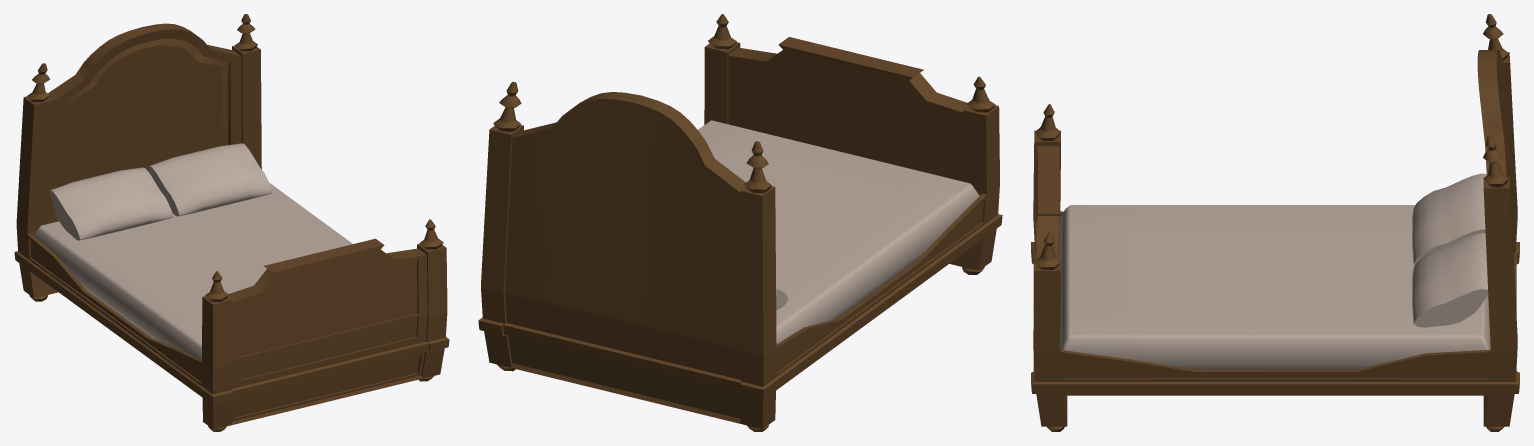
The model's file is OBJ_Bed_02.fbx.
3 views of the same model, side by side, from view 1: azimuth 30°, elevation 25°; view 2: azimuth 150°, elevation 25°; view 3: azimuth 270°, elevation 25° (orthographic). The views are drawn at different scales.
Visible parts, largest first — view 1: frame, mattress, pillow, pillow1; view 2: frame, mattress; view 3: mattress, frame, pillow1, pillow.
Part boxes in pixels (x1,y1,x2,y2): frame: (14, 14, 449, 431); mattress: (34, 183, 352, 359); pillow: (49, 167, 173, 240); pillow1: (148, 143, 272, 216); frame: (478, 14, 1002, 431); mattress: (698, 120, 979, 343); mattress: (1060, 205, 1490, 369); frame: (1031, 14, 1519, 431); pillow1: (1412, 233, 1488, 327); pillow: (1412, 173, 1486, 264).
Size of the model in its own units: 6.07 by 6.04 by 8.82.
